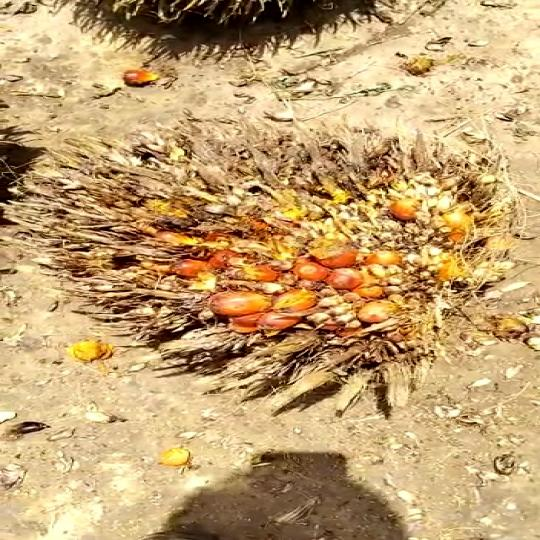terlalu masak: (12, 103, 540, 422)
